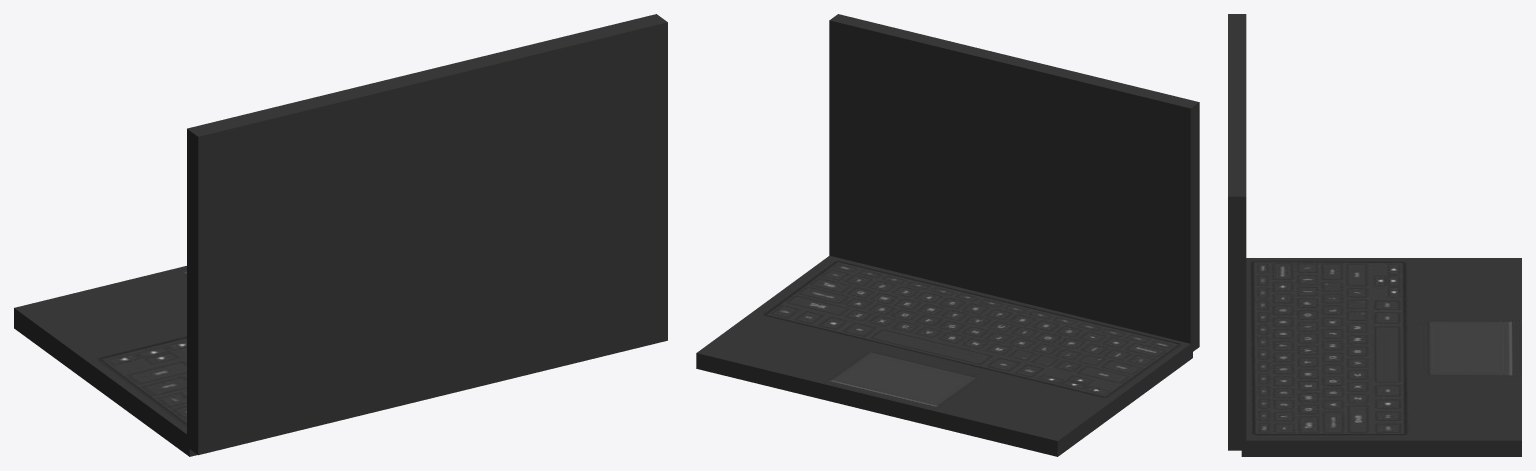
The model's file is laptop.fbx.
3 renders of one model, left to right at view 1: azimuth 30°, elevation 25°; view 2: azimuth 150°, elevation 25°; view 3: azimuth 270°, elevation 25°, orthographic. The views are drawn at different scales.
Visible parts, largest first — view 1: Cube.001, Cube; view 2: Cube.001, Cube; view 3: Cube, Cube.001.
Boxes of the visible parts, x1,y1,x2,y2 form: Cube.001: [187, 14, 667, 455]; Cube: [14, 266, 197, 456]; Cube.001: [829, 14, 1199, 352]; Cube: [696, 255, 1192, 456]; Cube: [1241, 258, 1521, 456]; Cube.001: [1228, 14, 1246, 450].
Size of the model in its own units: 1403 by 931 by 953.
